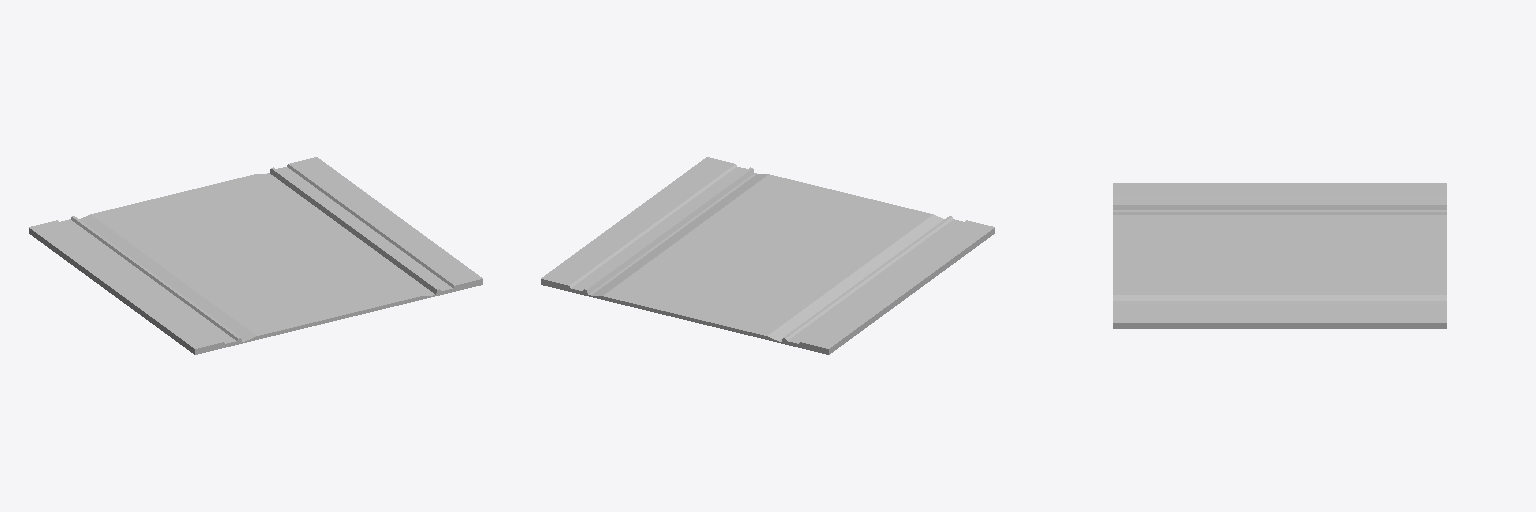
The model's file is Street_FORWARD.obj.
3 renders of one model, left to right at view 1: azimuth 30°, elevation 25°; view 2: azimuth 150°, elevation 25°; view 3: azimuth 270°, elevation 25°, orthographic.
Visible parts, largest first — view 1: Road-2-Lane-Straight_xyz_uv_100x100; view 2: Road-2-Lane-Straight_xyz_uv_100x100; view 3: Road-2-Lane-Straight_xyz_uv_100x100.
Boxes of the visible parts, box(x1,y1,x2,y2) form: Road-2-Lane-Straight_xyz_uv_100x100: box(29, 157, 482, 354); Road-2-Lane-Straight_xyz_uv_100x100: box(541, 157, 994, 354); Road-2-Lane-Straight_xyz_uv_100x100: box(1113, 183, 1446, 328).
Bounding box in the file's own units: 100 × 2 × 100.